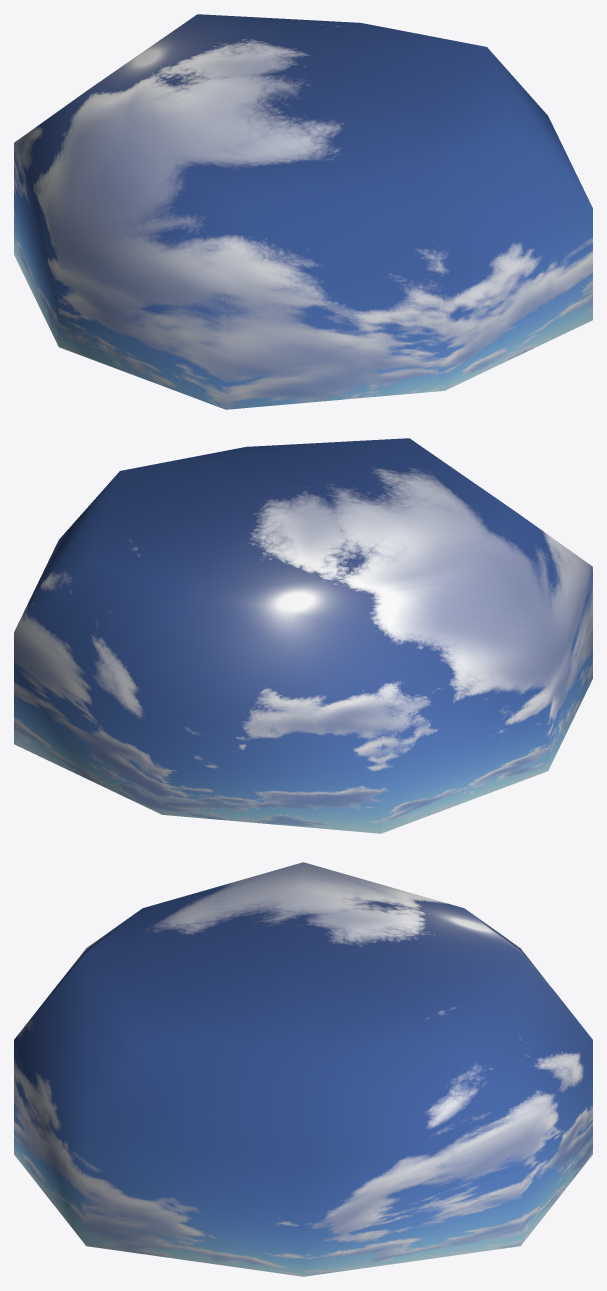
Rendered from Skybox.fbx.
The picture shows the model from 3 angles, top to bottom: view 1: azimuth 30°, elevation 25°; view 2: azimuth 150°, elevation 25°; view 3: azimuth 270°, elevation 25°; orthographic projection. The views are drawn at different scales.
Parts seen in each view (by area): view 1: Skybox; view 2: Skybox; view 3: Skybox.
Part boxes in pixels (left/top/right/bottom): Skybox: left=14, top=14, right=592, bottom=409; Skybox: left=14, top=438, right=592, bottom=833; Skybox: left=14, top=862, right=592, bottom=1276.
Bounding box in the file's own units: 1001 × 488 × 1001.
Materials: 2 (2 with a texture image).
